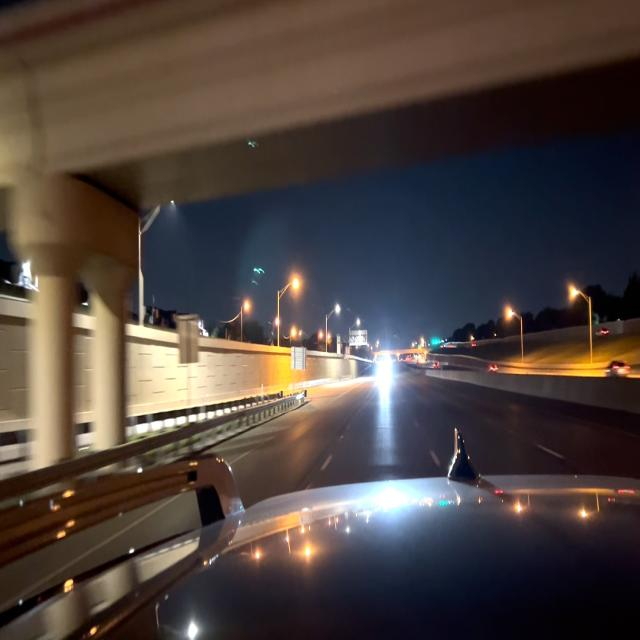back-of-sign: (178, 315, 199, 364), (291, 345, 306, 370)
